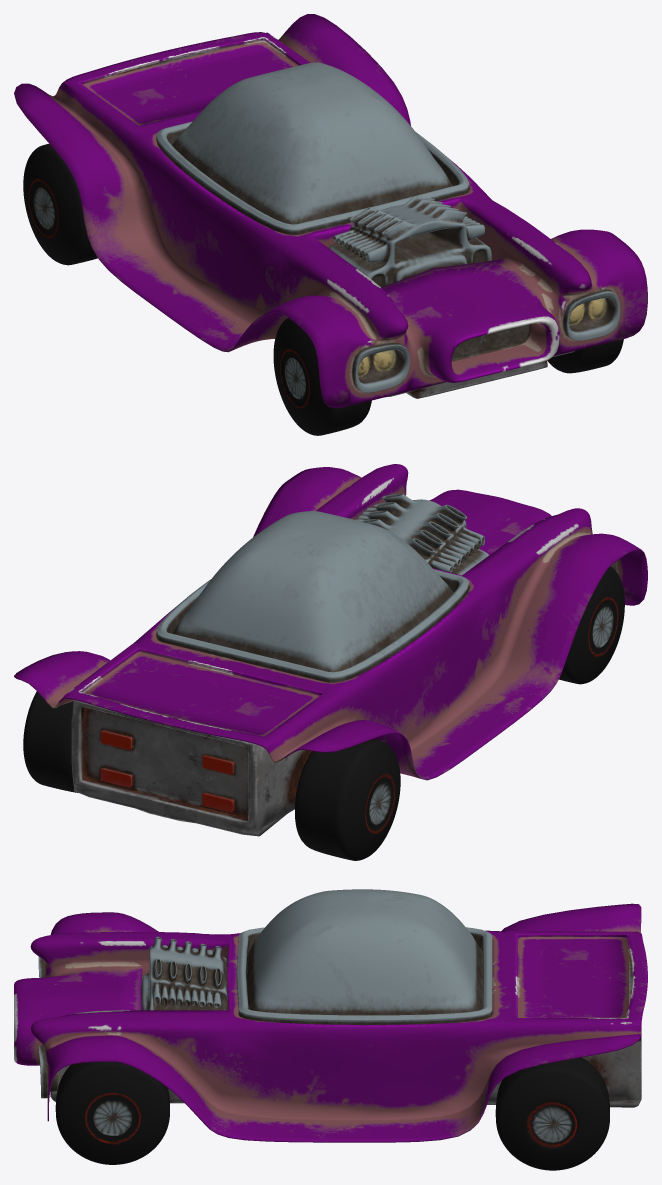
The picture shows the model from 3 angles, top to bottom: view 1: azimuth 30°, elevation 25°; view 2: azimuth 150°, elevation 25°; view 3: azimuth 270°, elevation 25°; orthographic projection. The views are drawn at different scales.
Visible parts, largest first — view 1: Group22204.002, Group22204.001, Group22204; view 2: Group22204.002, Group22204, Group22204.001; view 3: Group22204.002, Group22204, Group22204.001.
Part boxes in pixels (box(x1,y1,x2,y2)): Group22204.002: box(14, 14, 647, 408); Group22204.001: box(172, 62, 452, 224); Group22204: box(23, 45, 623, 435); Group22204.002: box(14, 464, 647, 780); Group22204: box(23, 493, 624, 860); Group22204.001: box(173, 511, 453, 672); Group22204.002: box(14, 903, 647, 1142); Group22204: box(50, 936, 641, 1170); Group22204.001: box(247, 889, 482, 1015).
Size of the model in its own units: 313 by 189 by 551.
Materials: 2 (2 with a texture image).
